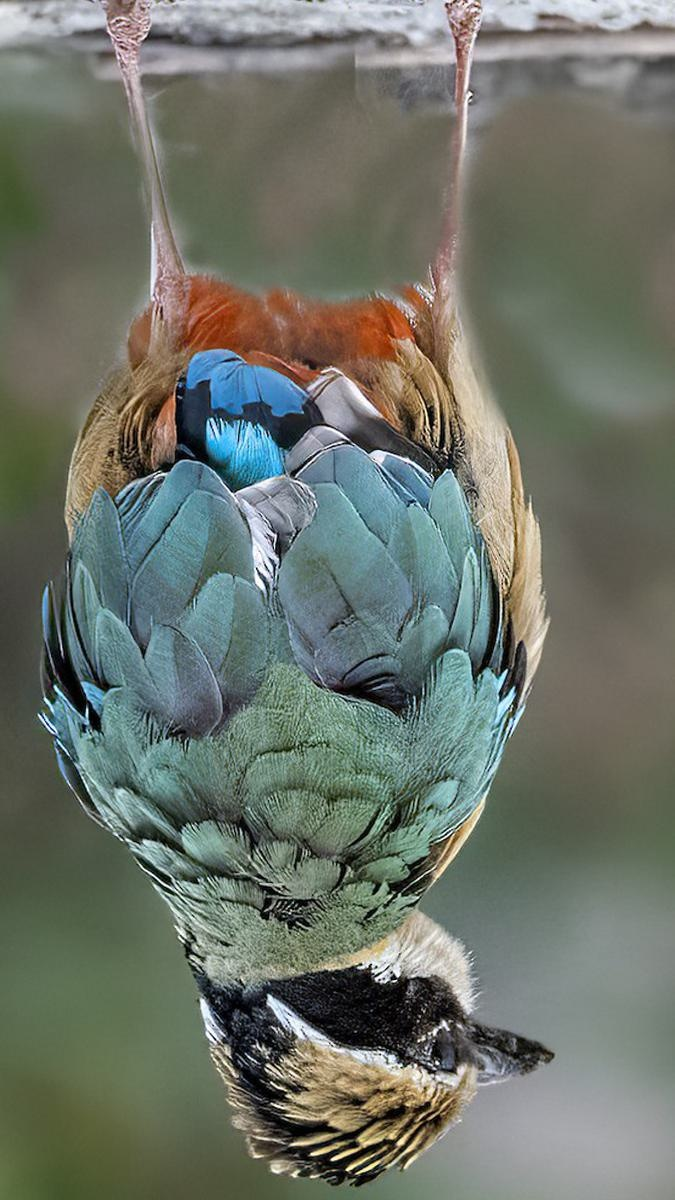pitta: (1, 172, 576, 1200)
